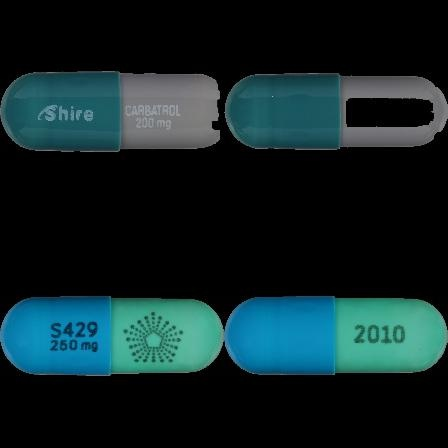54092-172: (0, 0, 224, 224)
